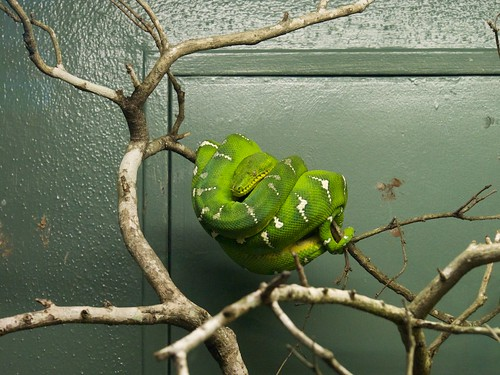animal: (182, 128, 359, 284)
tree: (27, 16, 500, 375)
